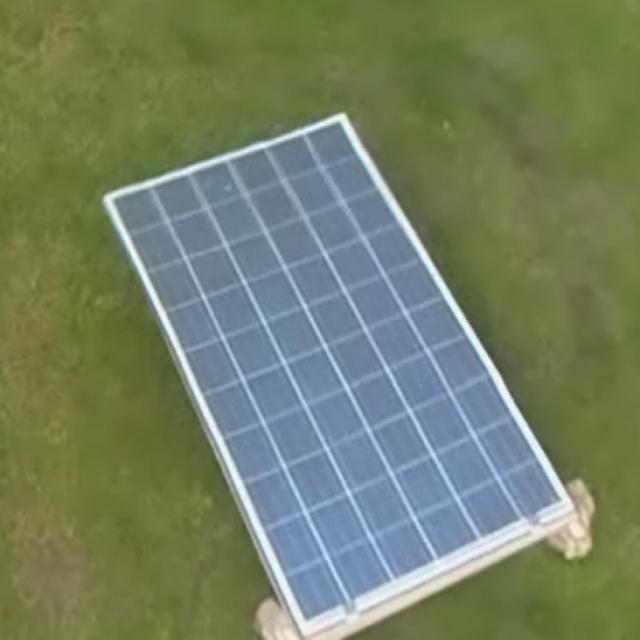no faulty: (106, 116, 573, 640)
